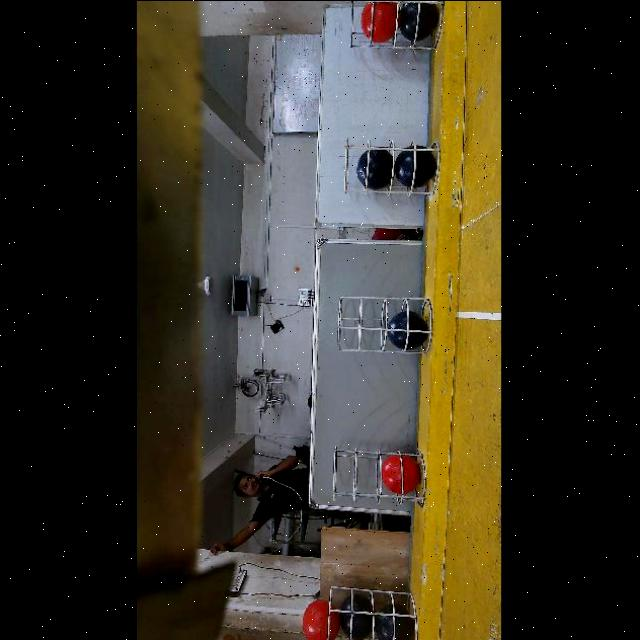P: (338, 594, 376, 640), (395, 145, 434, 185), (388, 310, 427, 348), (356, 149, 393, 189), (401, 1, 439, 39), (374, 604, 414, 640)
R: (360, 1, 401, 44), (303, 595, 341, 640), (382, 453, 421, 494)
S: (324, 446, 432, 504), (328, 584, 418, 640), (335, 298, 431, 348), (349, 1, 438, 54), (342, 154, 438, 196)
